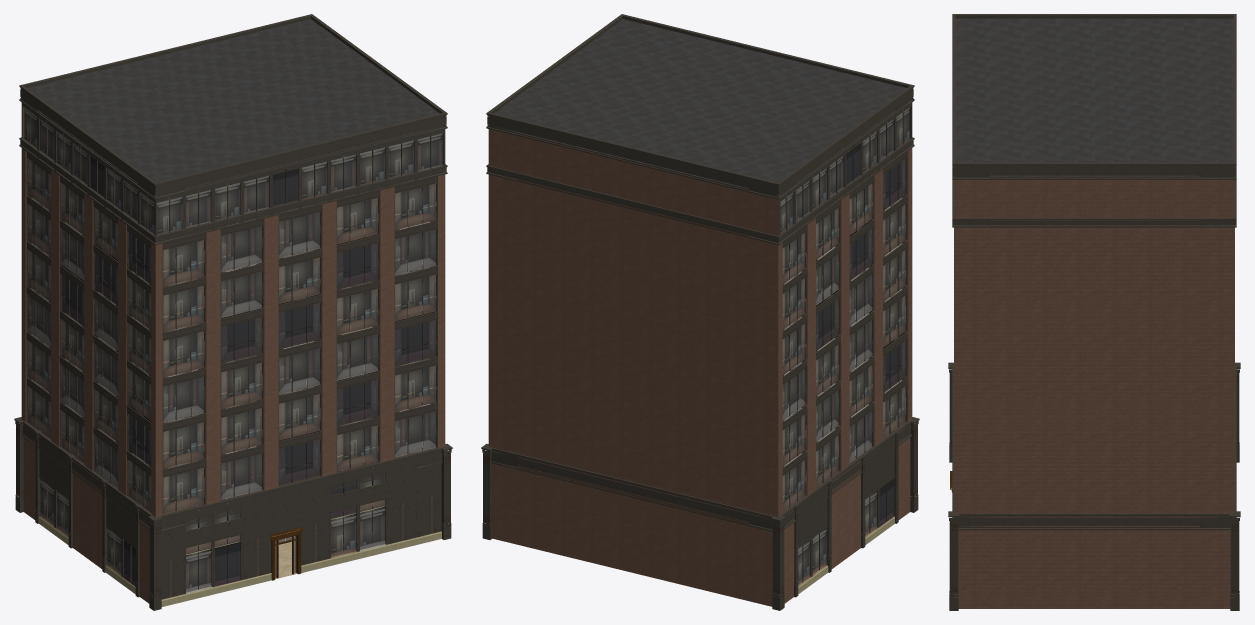
Rendered from Building_Large_2.glb.
The picture shows the model from 3 angles, left to right: view 1: azimuth 30°, elevation 25°; view 2: azimuth 150°, elevation 25°; view 3: azimuth 270°, elevation 25°; orthographic projection. The views are drawn at different scales.
Visible parts, largest first — view 1: Building_Large_2; view 2: Building_Large_2; view 3: Building_Large_2.
Part boxes in pixels (x1,y1,x2,y2): Building_Large_2: [14, 14, 452, 610]; Building_Large_2: [481, 14, 919, 610]; Building_Large_2: [948, 14, 1240, 610].
Bounding box in the file's own units: 20.64 × 28 × 16.64.
Materials: 9 (8 with a texture image).
